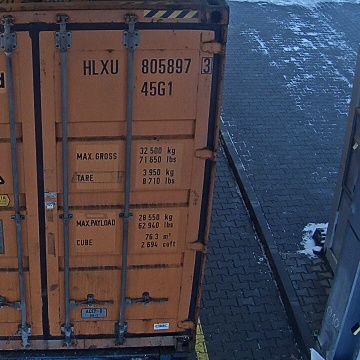serial_id: (83, 58, 210, 74)
